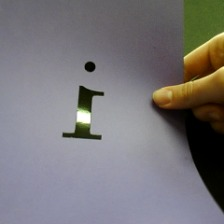violet1: (54, 57, 116, 147)
